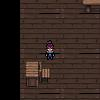Obstacle: (24, 61, 52, 87), (80, 0, 100, 13)
Victim: (43, 39, 56, 60)
